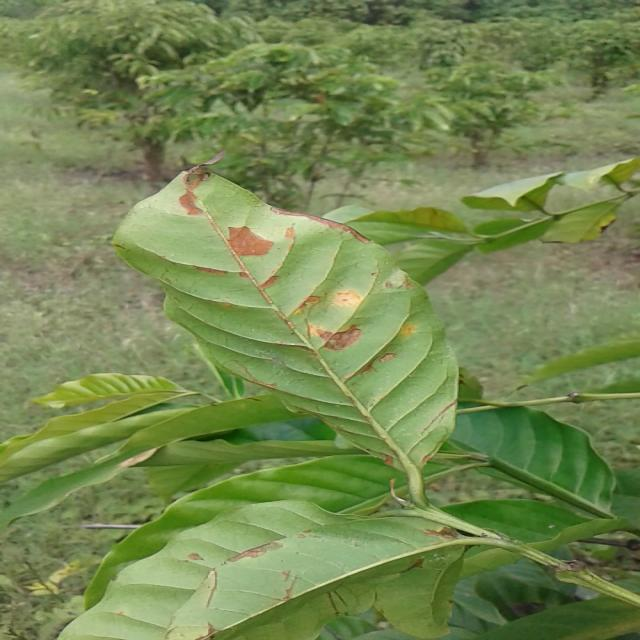Enfermedad-Roya: (112, 168, 460, 505)
